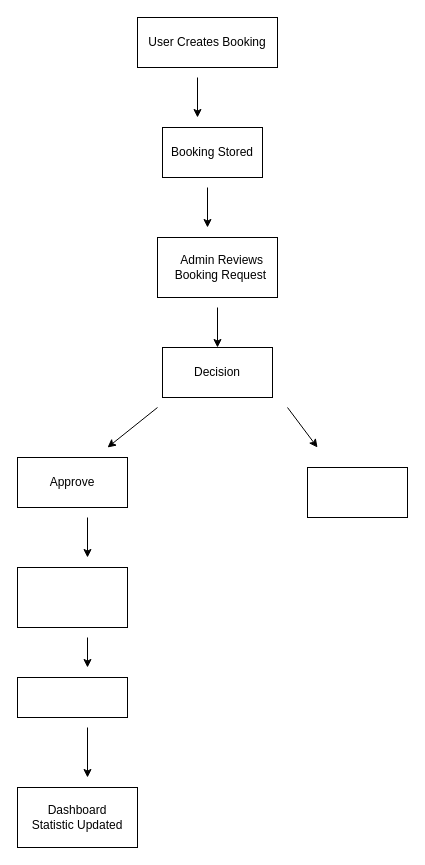
Some shapes in this 425 by 865 pixel diagram are drawn without their labels. The box of each missing label's shape, as (x1, y1, x2, y2) in pixels:
Issue Asset: (16, 566, 128, 628)
Reject: (306, 466, 408, 518)
Return Asset: (16, 676, 128, 718)
